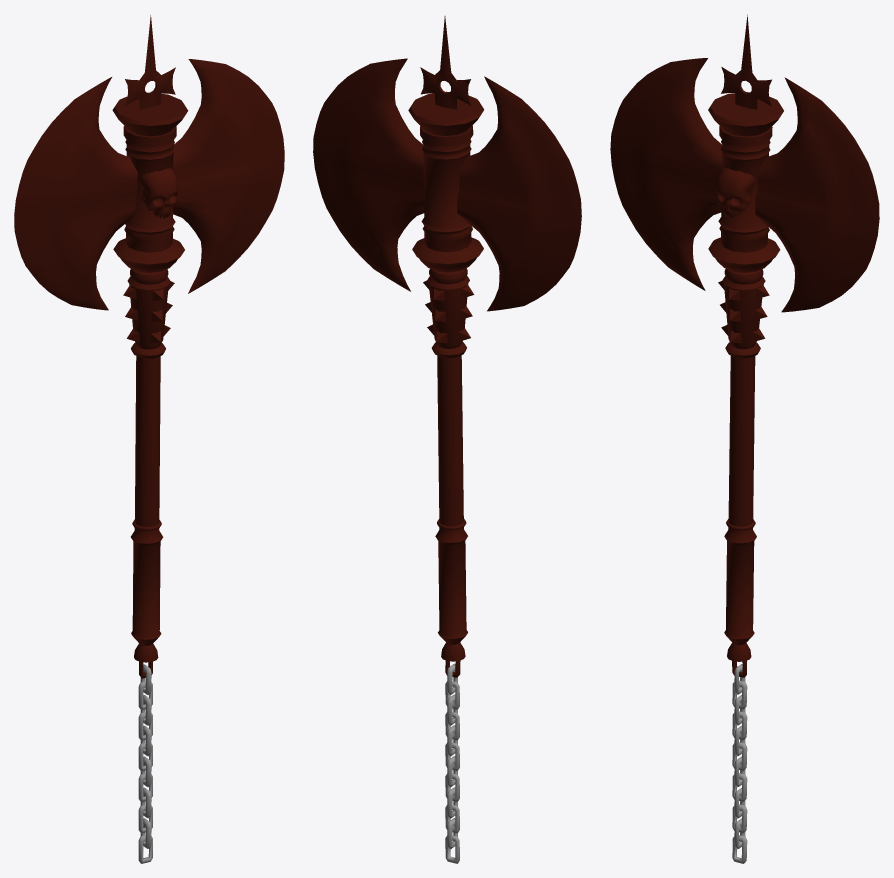
The model's file is axe.FBX.
3 views of the same model, side by side, from view 1: azimuth 30°, elevation 25°; view 2: azimuth 150°, elevation 25°; view 3: azimuth 330°, elevation 25° (orthographic).
Visible parts, largest first — view 1: axe; view 2: axe; view 3: axe.
Part boxes in pixels (bbox=[...]): axe: bbox=[14, 15, 284, 678]; axe: bbox=[313, 16, 581, 677]; axe: bbox=[610, 14, 879, 677].
Size of the model in its own units: 73.05 by 219 by 17.84.
